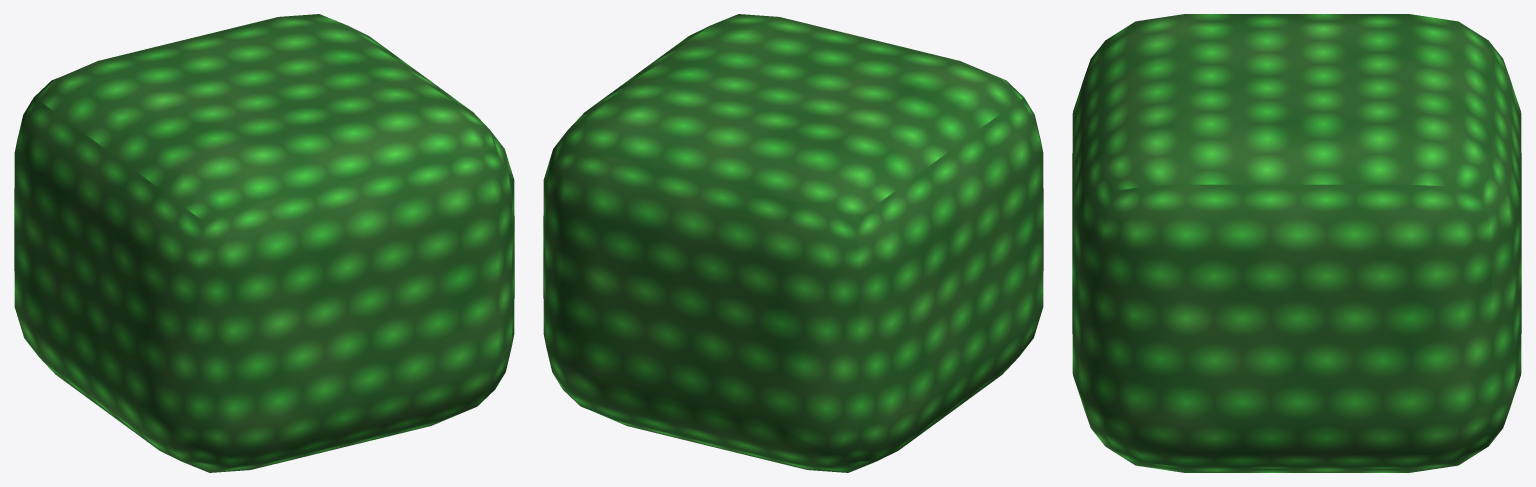
Rendered from SnakeBody.gltf.
3 views of the same model, side by side, from view 1: azimuth 30°, elevation 25°; view 2: azimuth 150°, elevation 25°; view 3: azimuth 270°, elevation 25° (orthographic). The views are drawn at different scales.
Visible parts, largest first — view 1: SnakeBody; view 2: SnakeBody; view 3: SnakeBody.
Boxes of the visible parts, box(x1,y1,x2,y2) form: SnakeBody: box(14, 14, 514, 472); SnakeBody: box(543, 14, 1043, 472); SnakeBody: box(1072, 14, 1521, 472).
Size of the model in its own units: 0.8 by 0.66 by 0.8.
Materials: 1 (1 with a texture image).
